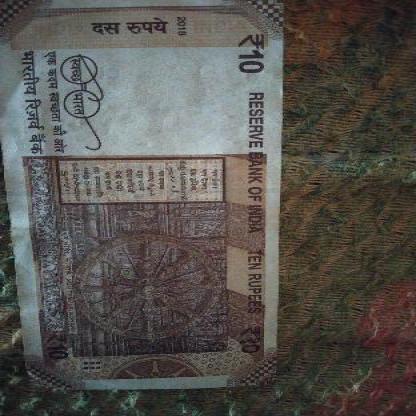New10Back: (1, 0, 272, 387)
